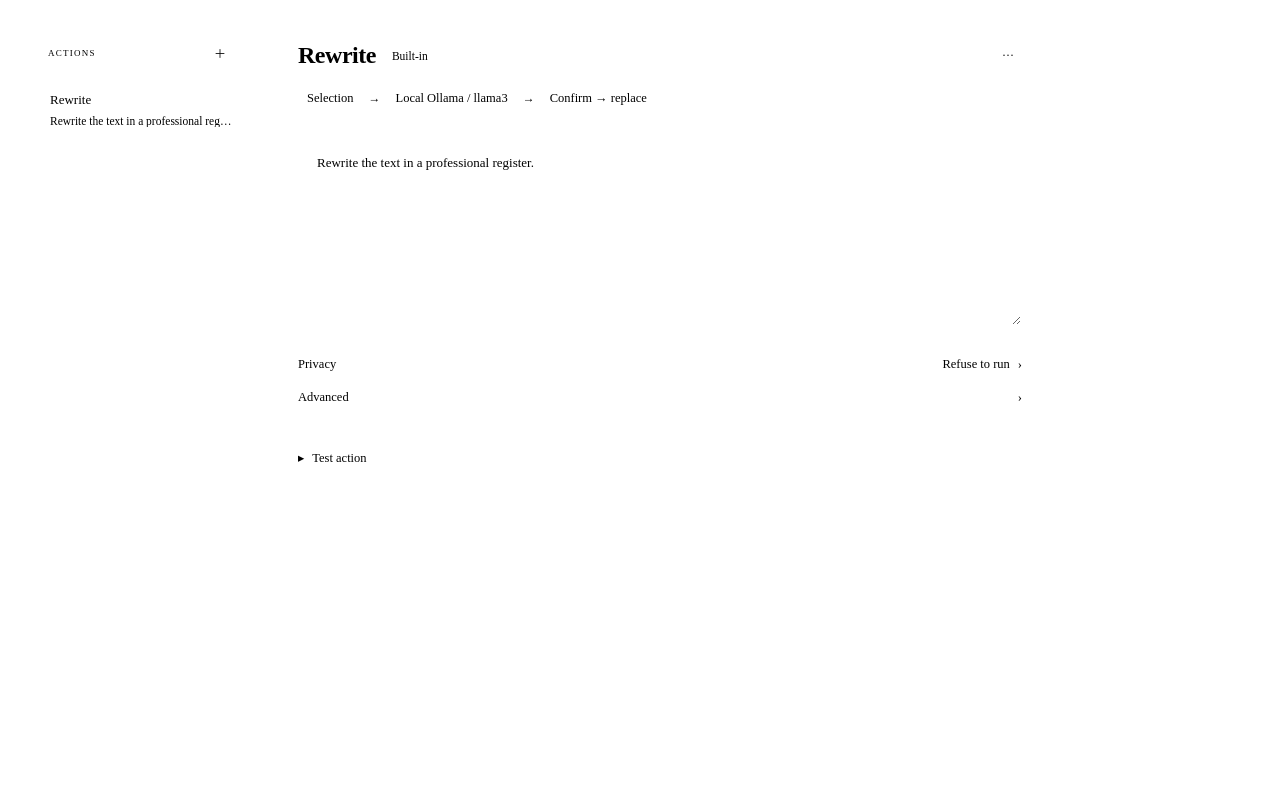
Test: ActionsPage — the test bench › reports a failed run inline, saying what is still unchanged
Click the button "▸ Test action". click: [332, 458]
box: [298,444,367,472]
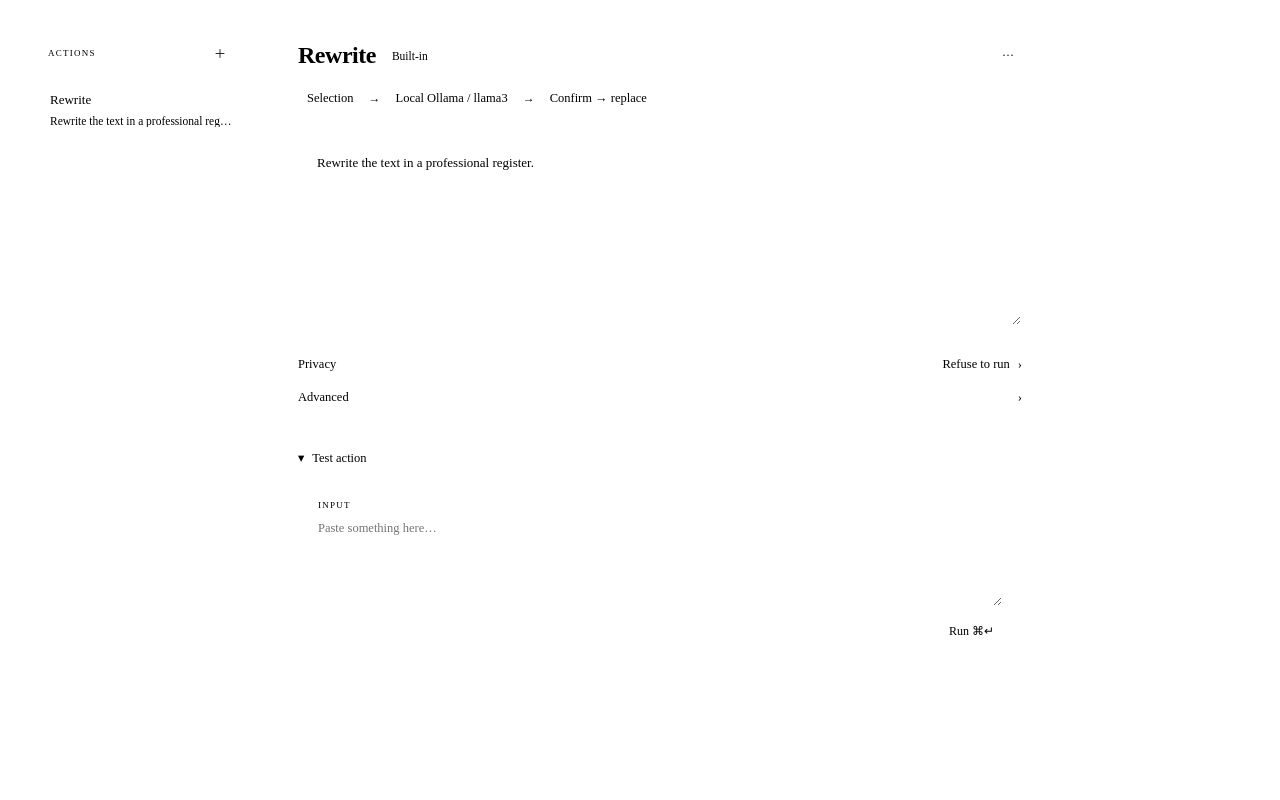
Type "some text" into the text box named "Test input". click: [660, 558]
box: [318,510,1002,606]
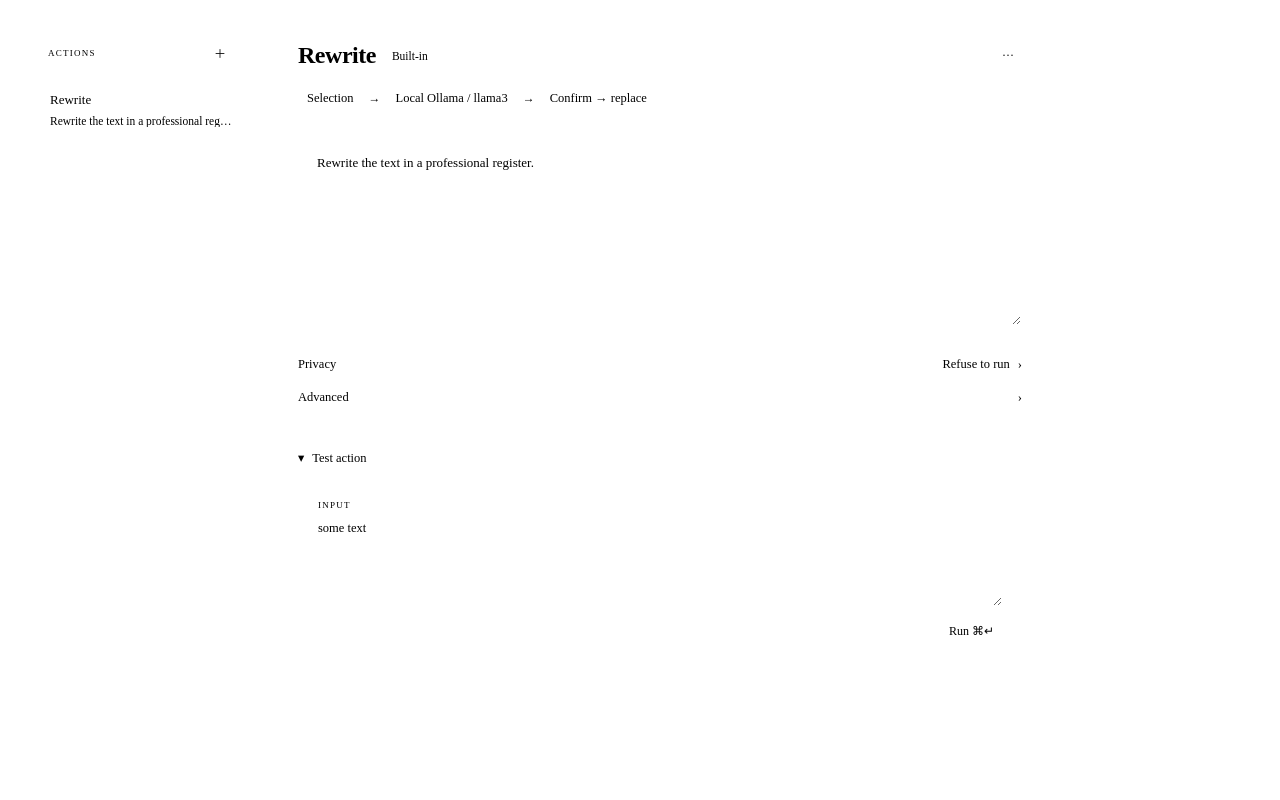
Click the button "Run ⌘↵". click: [971, 631]
box: [941,618,1002,644]
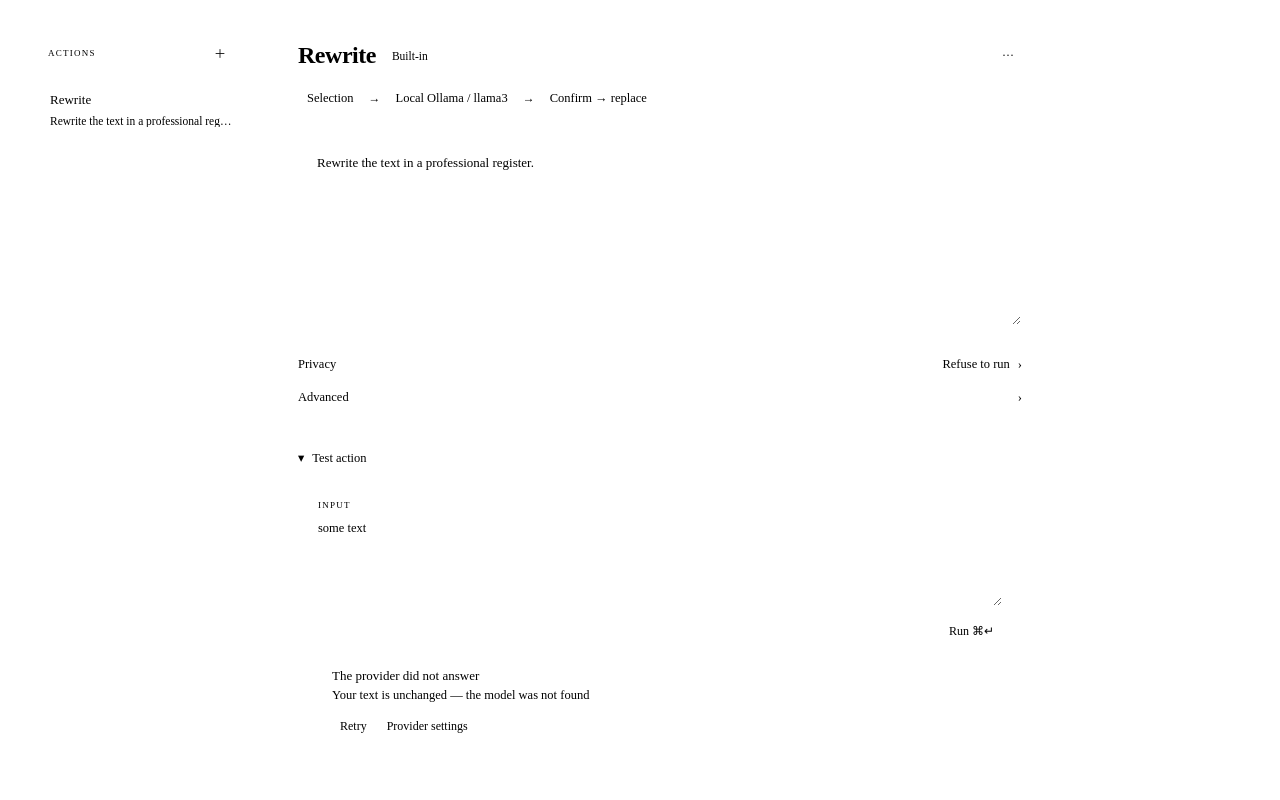
Expected: the text "The provider did not answer" is shown, [332,668,479,683]
Expected: the text "Your text is unchanged — the model was not found" is shown, [332,688,589,702]
Expected: the button "Retry" is shown, [332,713,375,739]
